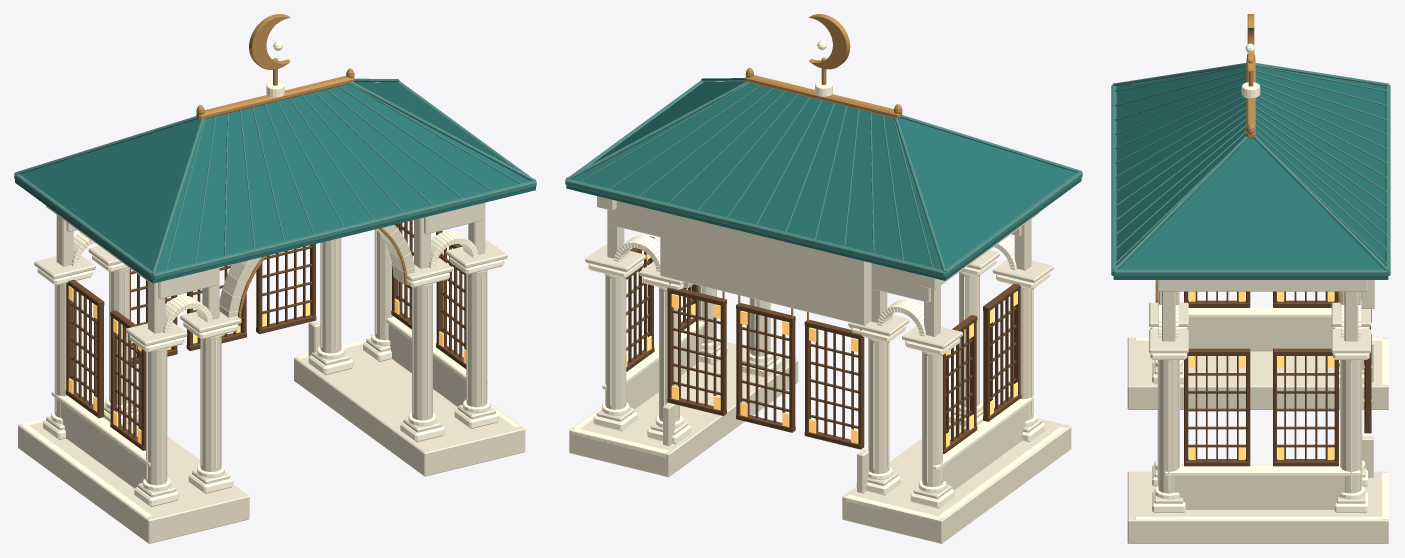
File: world02-tide-shrine-v2.glb
3 views of the same model, side by side, from view 1: azimuth 30°, elevation 25°; view 2: azimuth 150°, elevation 25°; view 3: azimuth 270°, elevation 25° (orthographic).
Parts seen in each view (by area): view 1: Warm ivory tide stone, Deep patinated teal roof, Oiled cedar lattice, Carved pale limestone, Raised copper roof seams, Antique copper moon, Warm amber inset glass; view 2: Warm ivory tide stone, Deep patinated teal roof, Oiled cedar lattice, Carved pale limestone, Raised copper roof seams, Antique copper moon, Warm amber inset glass; view 3: Deep patinated teal roof, Warm ivory tide stone, Raised copper roof seams, Oiled cedar lattice, Carved pale limestone, Warm amber inset glass, Antique copper moon.
Boxes of the visible parts, x1,y1,x2,y2 form: Warm ivory tide stone: (18, 202, 525, 543); Deep patinated teal roof: (15, 82, 535, 283); Oiled cedar lattice: (65, 220, 466, 450); Carved pale limestone: (22, 41, 519, 517); Raised copper roof seams: (14, 78, 536, 279); Antique copper moon: (196, 14, 407, 325); Warm amber inset glass: (68, 250, 466, 444); Warm ivory tide stone: (569, 196, 1071, 543); Deep patinated teal roof: (566, 81, 1081, 280); Oiled cedar lattice: (626, 236, 1021, 453); Carved pale limestone: (572, 40, 1065, 521); Raised copper roof seams: (565, 78, 1082, 277); Antique copper moon: (669, 14, 902, 330); Warm amber inset glass: (626, 253, 1017, 447); Deep patinated teal roof: (1113, 66, 1388, 279); Warm ivory tide stone: (1127, 280, 1388, 543); Raised copper roof seams: (1111, 63, 1390, 276); Oiled cedar lattice: (1184, 291, 1371, 466); Carved pale limestone: (1135, 43, 1388, 519); Warm amber inset glass: (1189, 291, 1334, 459); Antique copper moon: (1155, 14, 1340, 302).
Size of the model in its own units: 13.48 by 14.63 by 8.5.
